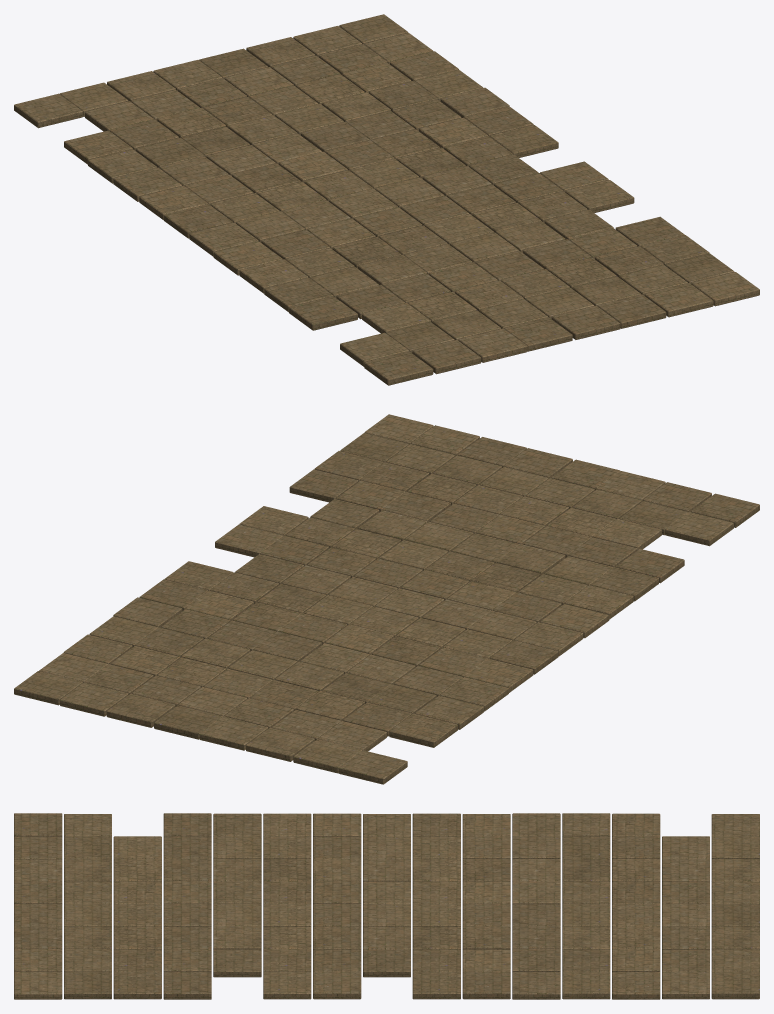
The model's file is paving.glb.
3 renders of one model, top to bottom at view 1: azimuth 30°, elevation 25°; view 2: azimuth 150°, elevation 25°; view 3: azimuth 270°, elevation 25°, orthographic.
Parts seen in each view (by area): view 1: Stone Sanctum - worn paving; view 2: Stone Sanctum - worn paving; view 3: Stone Sanctum - worn paving.
Boxes of the visible parts, x1,y1,x2,y2 form: Stone Sanctum - worn paving: (14,14,759,385); Stone Sanctum - worn paving: (14,414,759,784); Stone Sanctum - worn paving: (14,813,759,999).
Size of the model in its own units: 9.6 by 0.1696 by 16.76.
1 material, 1 textured.
